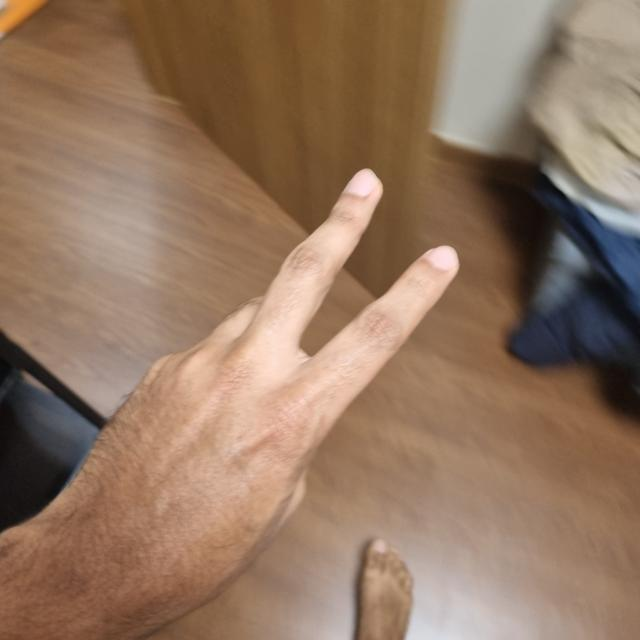Scissors: (29, 176, 454, 631)
